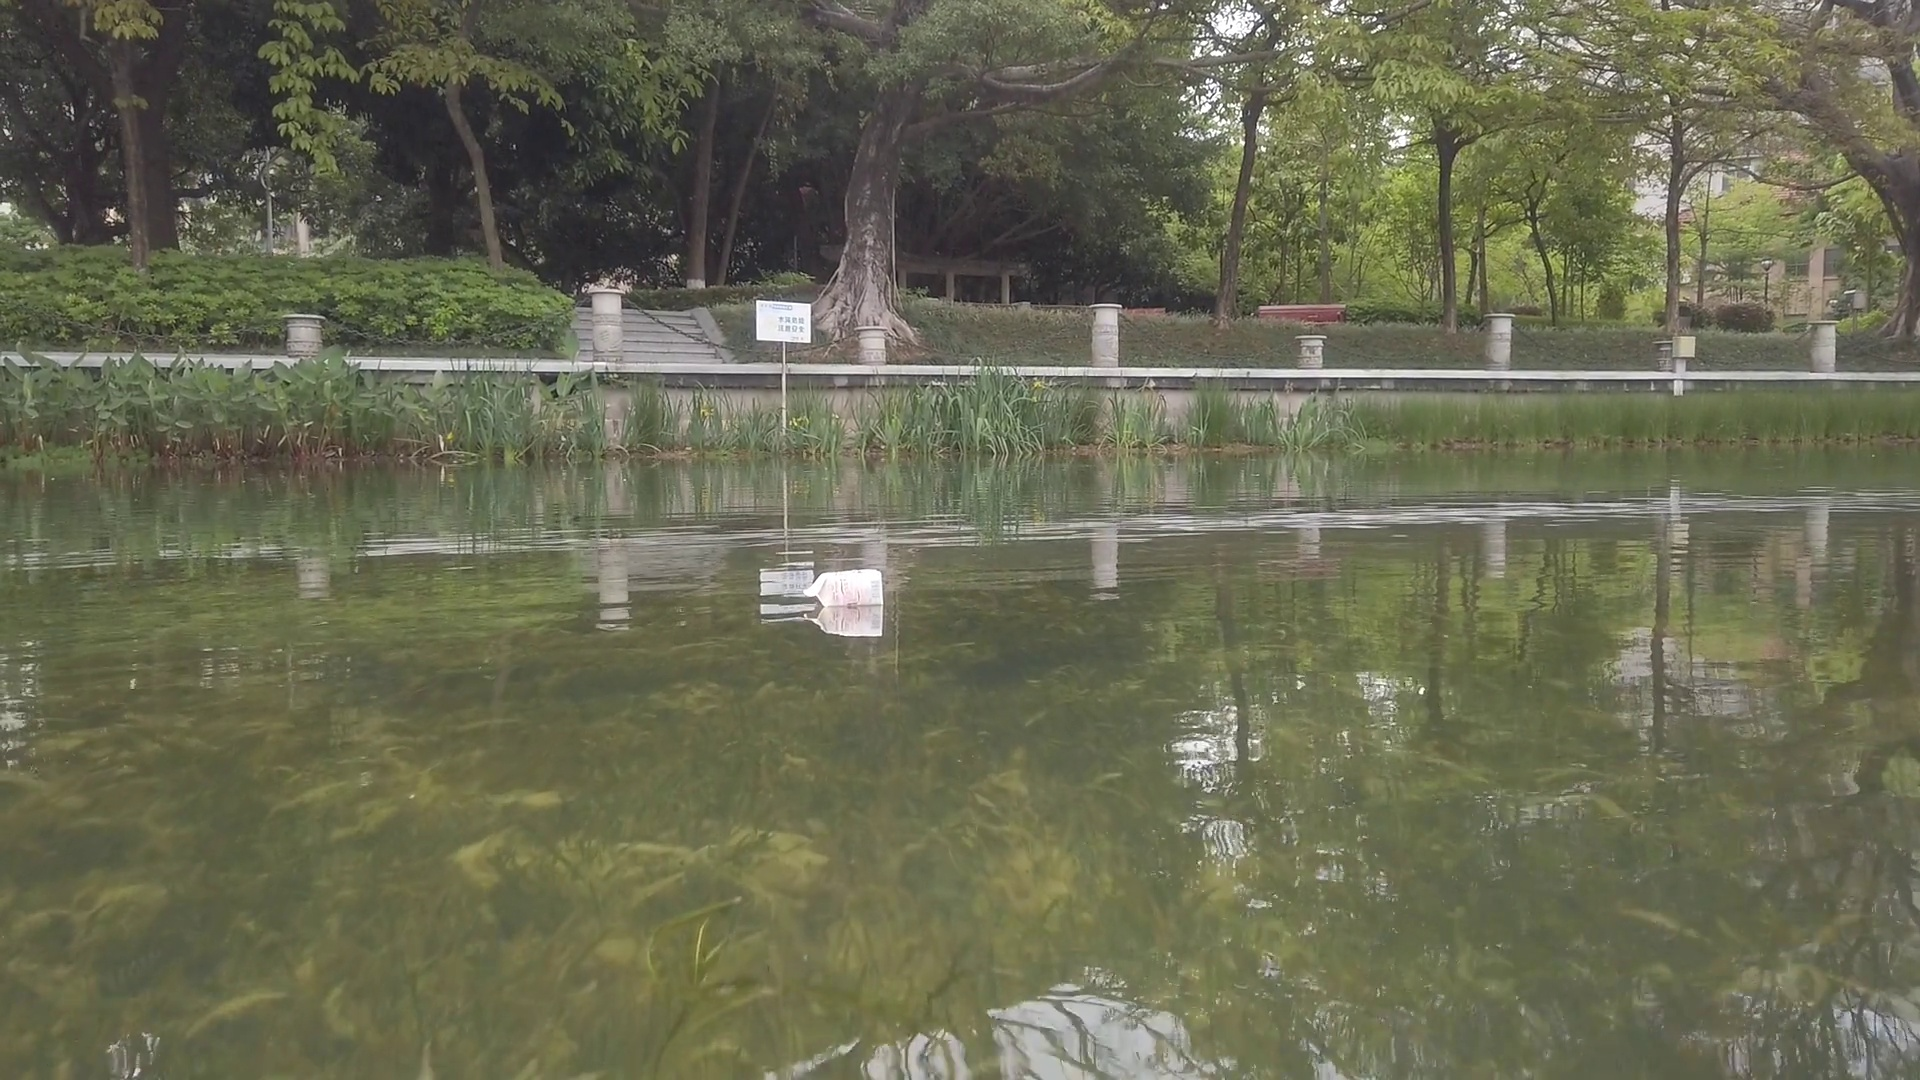carton: (810, 571, 884, 611)
